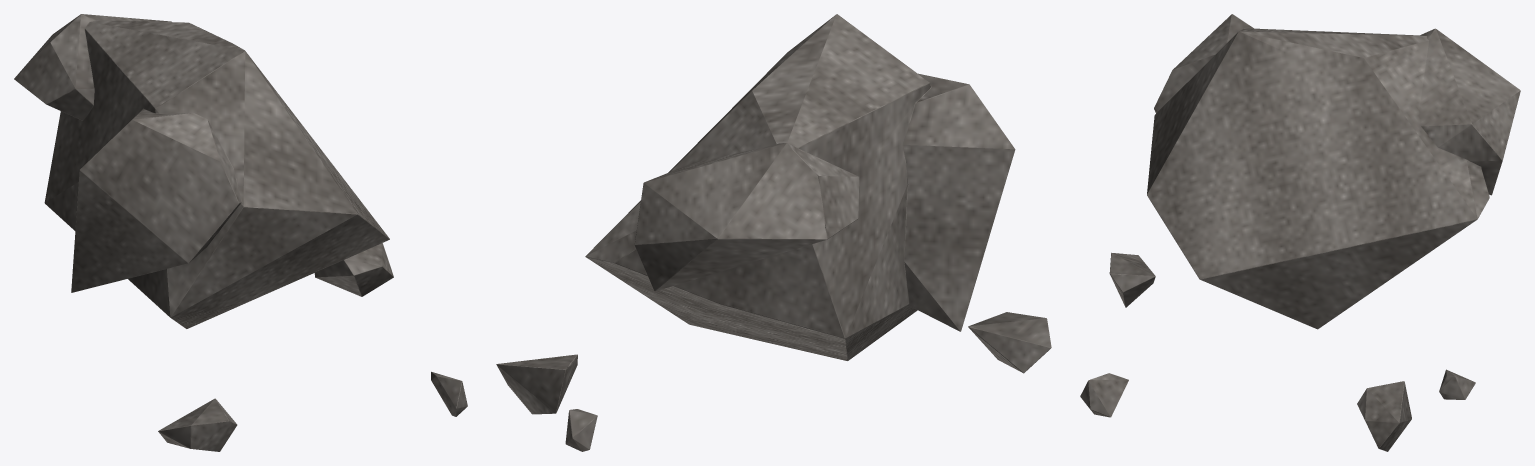
File: boulder_10.glb
3 renders of one model, left to right at view 1: azimuth 30°, elevation 25°; view 2: azimuth 150°, elevation 25°; view 3: azimuth 270°, elevation 25°, orthographic. The views are drawn at different scales.
Visible parts, largest first — view 1: boulder_10_c0; view 2: boulder_10_c0; view 3: boulder_10_c0.
Part boxes in pixels (x1,y1,x2,y2): boulder_10_c0: [14, 14, 467, 451]; boulder_10_c0: [496, 14, 1051, 451]; boulder_10_c0: [1080, 14, 1520, 451].
Bounding box in the file's own units: 1.51 × 1.31 × 1.59.
Materials: 1 (1 with a texture image).
